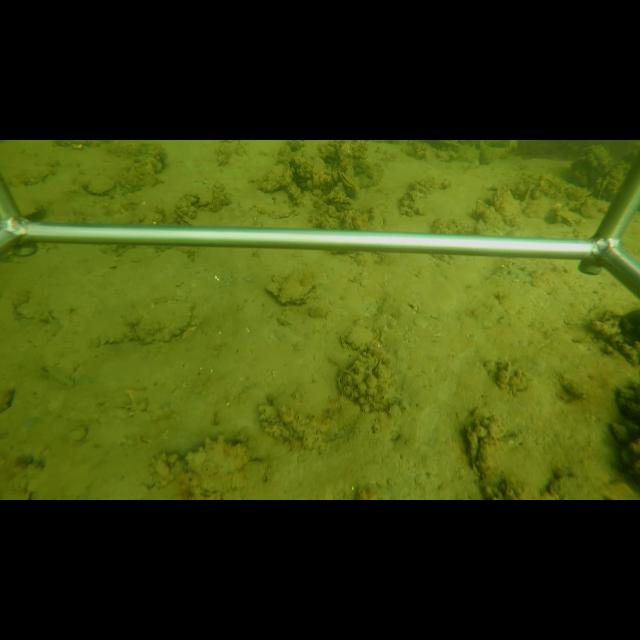Oyster-Closed: (131, 297, 196, 344), (260, 270, 318, 306), (258, 163, 289, 194), (88, 176, 120, 195)
Oyster-Open: (336, 165, 359, 193)
